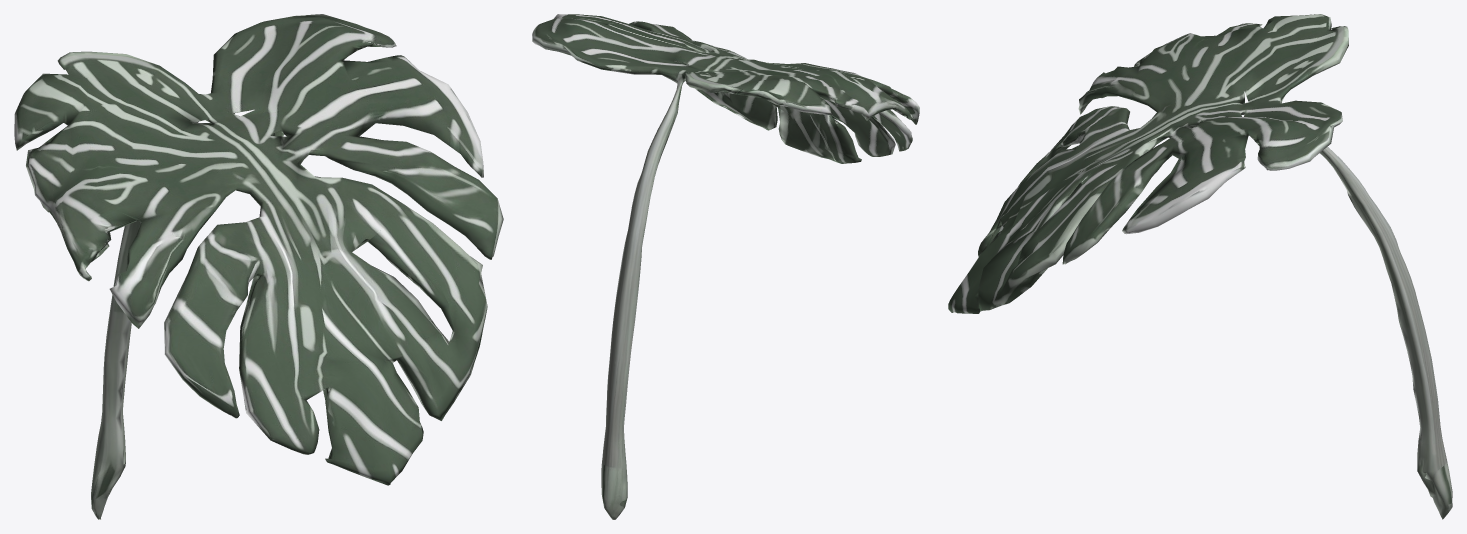
File: mon_zebra_v2.glb
3 views of the same model, side by side, from view 1: azimuth 30°, elevation 25°; view 2: azimuth 150°, elevation 25°; view 3: azimuth 270°, elevation 25° (orthographic). The views are drawn at different scales.
Bounding box in the file's own units: 1.63 × 1.99 × 2.
Materials: 1 (1 with a texture image).
